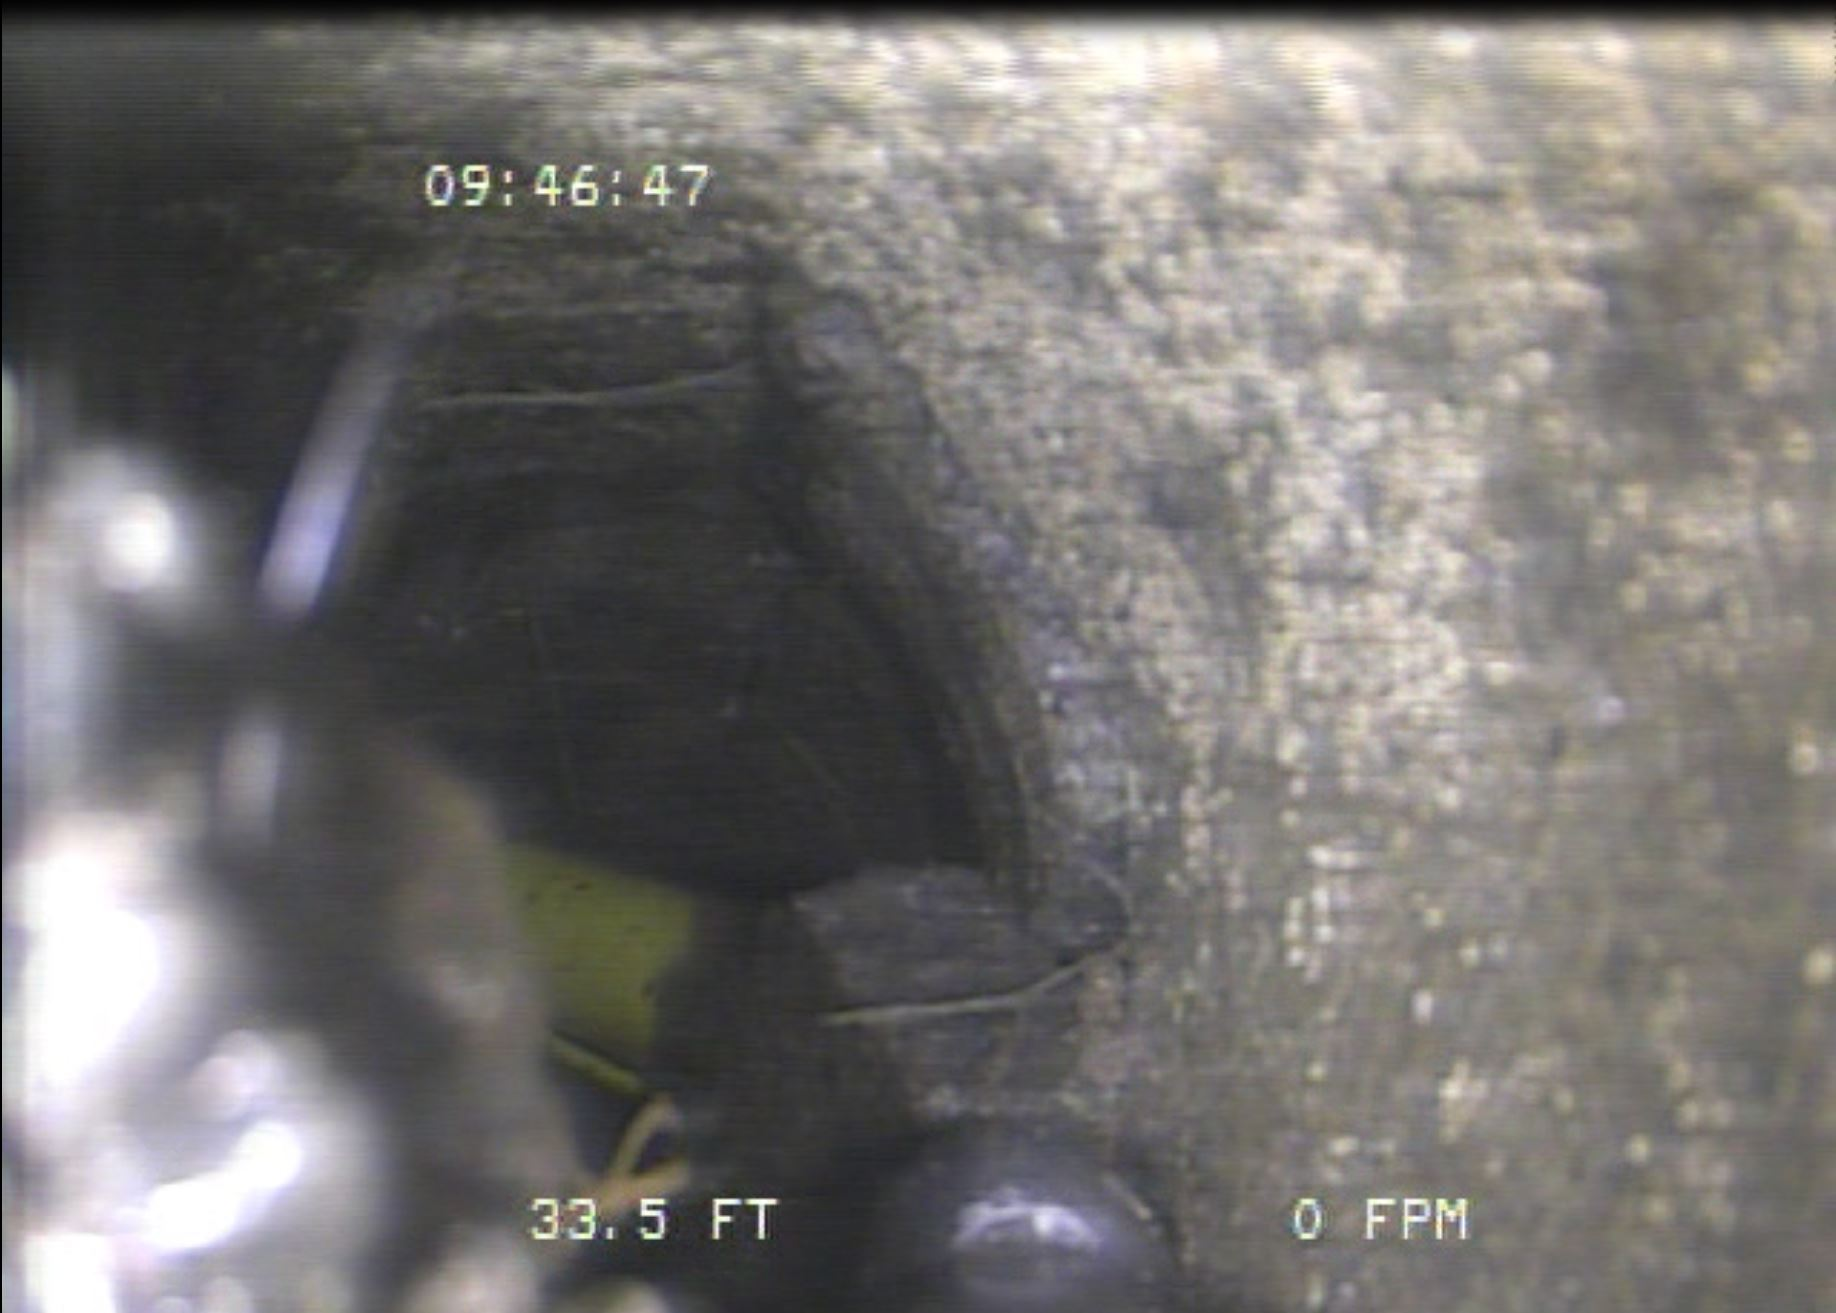cb: (345, 793, 843, 1133)
